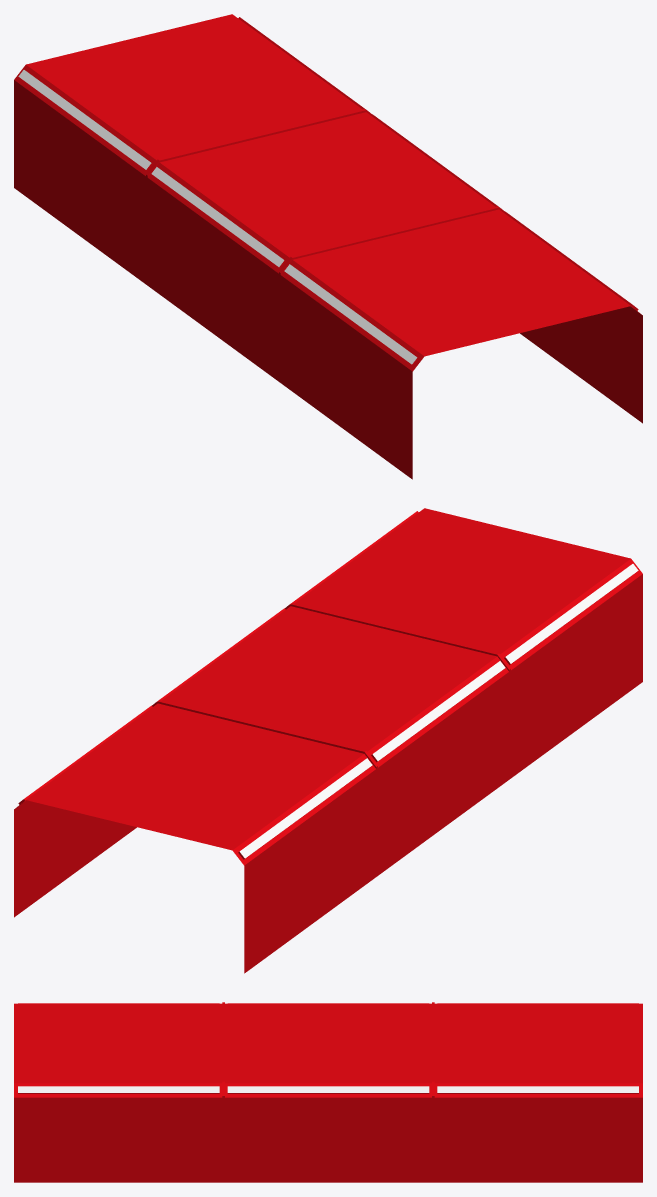
Rendered from house2.glb.
3 renders of one model, top to bottom at view 1: azimuth 30°, elevation 25°; view 2: azimuth 150°, elevation 25°; view 3: azimuth 270°, elevation 25°, orthographic. The views are drawn at different scales.
Parts seen in each view (by area): view 1: Cube.002; view 2: Cube.002; view 3: Cube.002.
Boxes of the visible parts, x1,y1,x2,y2 form: Cube.002: [14, 14, 642, 479]; Cube.002: [14, 508, 642, 973]; Cube.002: [14, 1002, 642, 1182].
Size of the model in its own units: 6 by 3.05 by 18.
